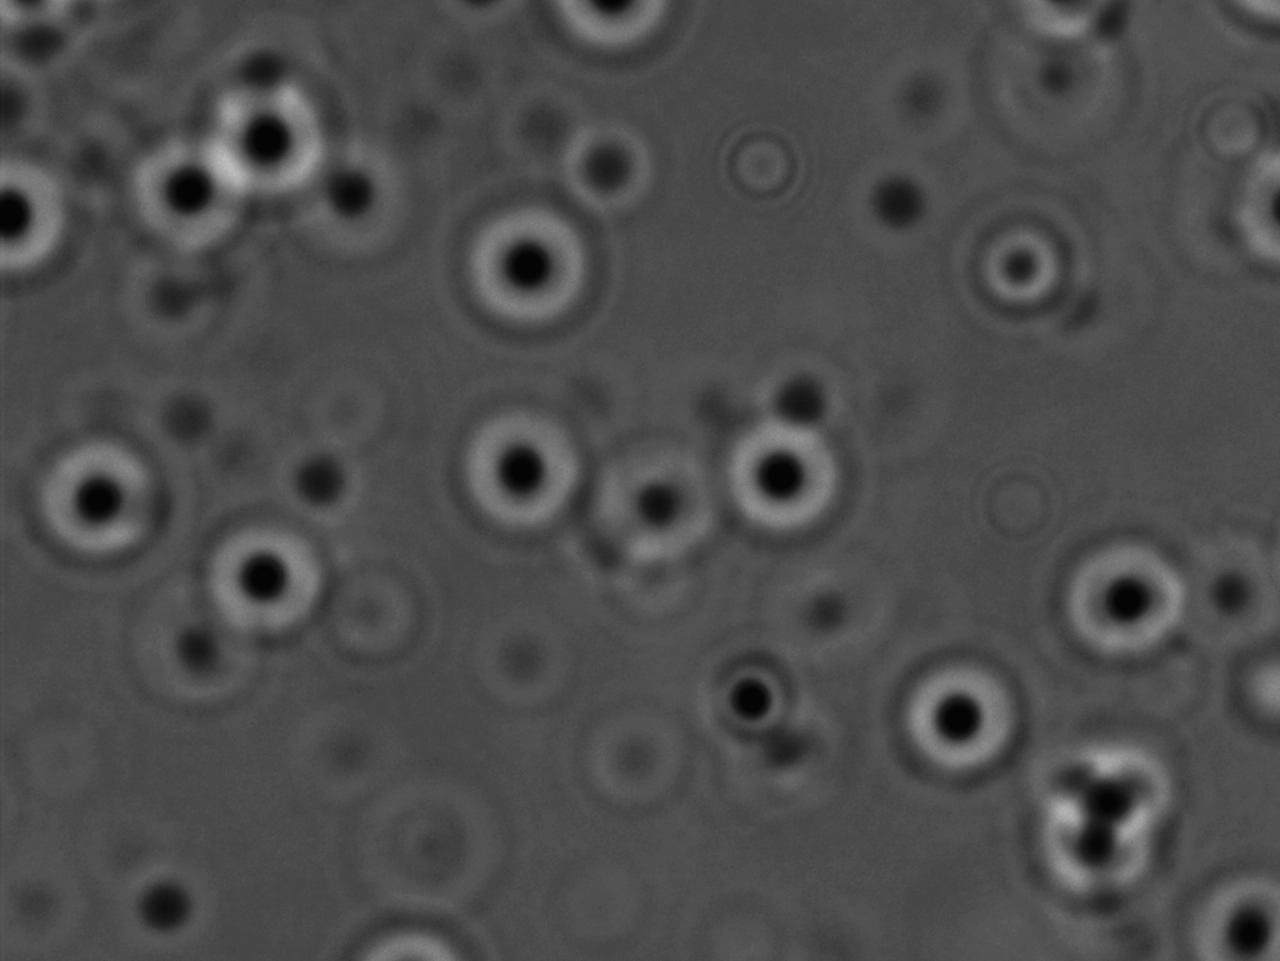depth:-32: (176, 503, 340, 657), (20, 418, 170, 575), (1041, 521, 1187, 678), (195, 66, 341, 221), (448, 189, 600, 338), (111, 136, 262, 279), (888, 633, 1027, 788), (446, 396, 591, 533), (716, 398, 856, 533)
